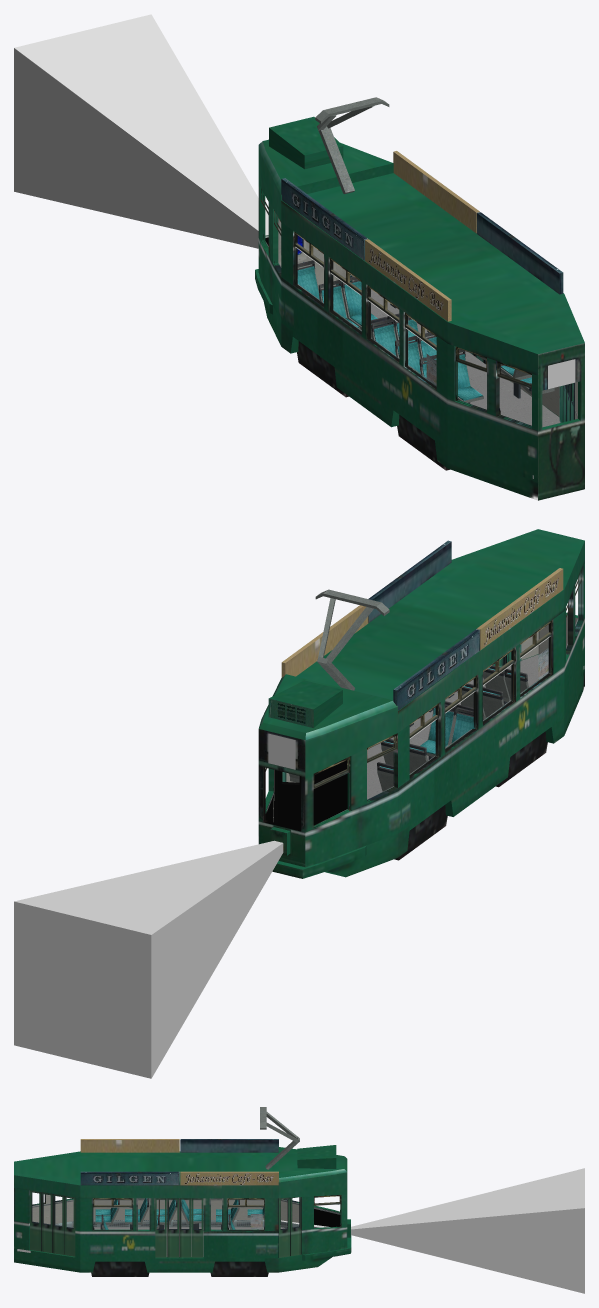
File: tram.glb
3 renders of one model, top to bottom at view 1: azimuth 30°, elevation 25°; view 2: azimuth 150°, elevation 25°; view 3: azimuth 270°, elevation 25°, orthographic. The views are drawn at different scales.
Visible parts, largest first — view 1: Plane.002, Cube.037, Cube.005, Cube.003, Cube.002, Cube.004, Cube.001, Cube.025, Cube.026, Cube.006, Cube.016, Cube.070 (+3 smaller); view 2: Plane.002, Cube.037, Cube.016, Cube.001, Cube.002, Cube.003, Cube.004, Cube.005, Cube.025, Cube.026, Cube.069; view 3: Plane.002, Cube.037, Cube.003, Cube.004, Cube.002, Cube.001, Cube.025, Cube.026, Cube.056, Cube.039, Cube.015, Cube.024 (+11 smaller).
Part boxes in pixels (left/top/right/bottom): Plane.002: left=255, top=116, right=584, bottom=500; Cube.037: left=14, top=14, right=268, bottom=248; Cube.005: left=353, top=280, right=560, bottom=478; Cube.003: left=476, top=212, right=563, bottom=294; Cube.002: left=365, top=239, right=451, bottom=321; Cube.004: left=393, top=151, right=479, bottom=233; Cube.001: left=281, top=178, right=367, bottom=260; Cube.025: left=297, top=341, right=348, bottom=397; Cube.026: left=397, top=415, right=449, bottom=470; Cube.006: left=317, top=126, right=354, bottom=194; Cube.016: left=278, top=218, right=353, bottom=288; Cube.070: left=341, top=276, right=377, bottom=329; Plane.002: left=258, top=529, right=584, bottom=878; Cube.037: left=14, top=840, right=283, bottom=1078; Cube.016: left=273, top=760, right=347, bottom=828; Cube.001: left=393, top=629, right=479, bottom=710; Cube.002: left=477, top=568, right=563, bottom=650; Cube.003: left=368, top=540, right=451, bottom=623; Cube.004: left=281, top=605, right=368, bottom=677; Cube.005: left=367, top=654, right=584, bottom=799; Cube.025: left=394, top=805, right=447, bottom=860; Cube.026: left=496, top=731, right=547, bottom=787; Cube.069: left=420, top=704, right=456, bottom=759; Plane.002: left=14, top=1145, right=351, bottom=1272; Cube.037: left=351, top=1168, right=584, bottom=1293; Cube.003: left=80, top=1171, right=179, bottom=1185; Cube.004: left=180, top=1171, right=278, bottom=1185; Cube.002: left=80, top=1139, right=179, bottom=1152; Cube.001: left=180, top=1139, right=278, bottom=1152; Cube.025: left=210, top=1261, right=268, bottom=1276; Cube.026: left=91, top=1261, right=149, bottom=1276; Cube.056: left=55, top=1220, right=329, bottom=1228; Cube.039: left=52, top=1194, right=64, bottom=1254; Cube.015: left=179, top=1198, right=191, bottom=1257; Cube.024: left=191, top=1198, right=203, bottom=1257.
Bounding box in the file's own units: 6.16 × 11.41 × 37.14.
53 materials, 37 textured.
